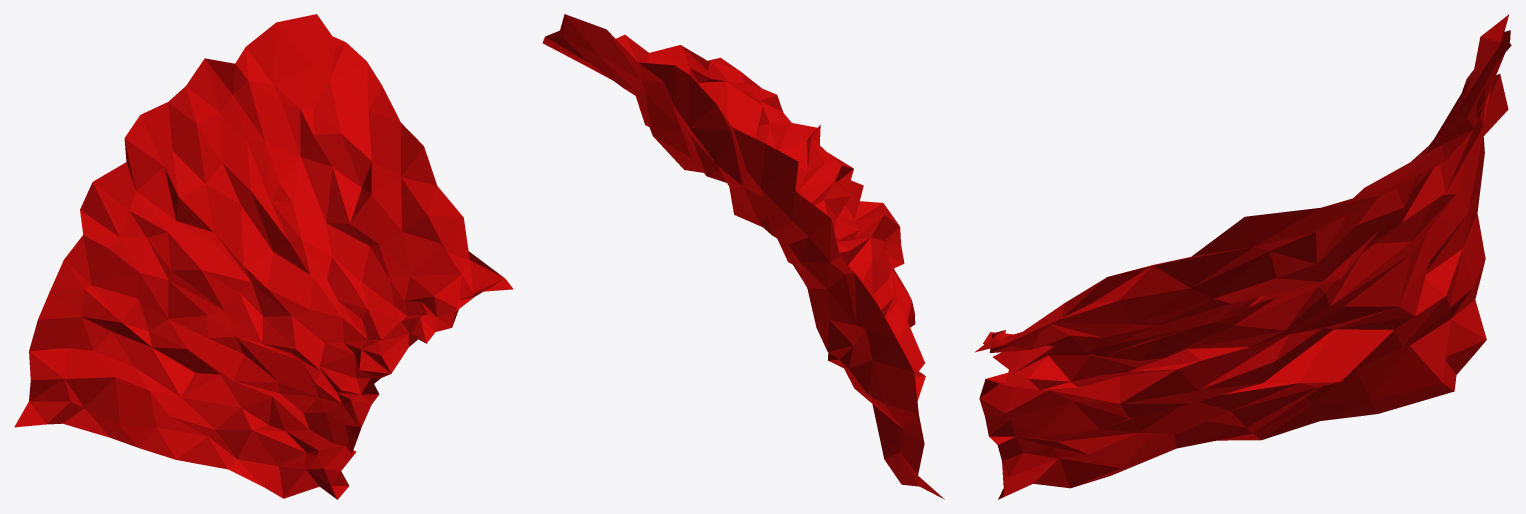
The model's file is Backdropp05.fbx.
3 renders of one model, left to right at view 1: azimuth 30°, elevation 25°; view 2: azimuth 150°, elevation 25°; view 3: azimuth 270°, elevation 25°, orthographic. The views are drawn at different scales.
Parts seen in each view (by area): view 1: Backdropp05; view 2: Backdropp05; view 3: Backdropp05.
Boxes of the visible parts, box(x1,y1,x2,y2) form: Backdropp05: box(14, 14, 513, 499); Backdropp05: box(542, 14, 944, 499); Backdropp05: box(975, 14, 1511, 499).
Bounding box in the file's own units: 38674 × 37173 × 32706.
